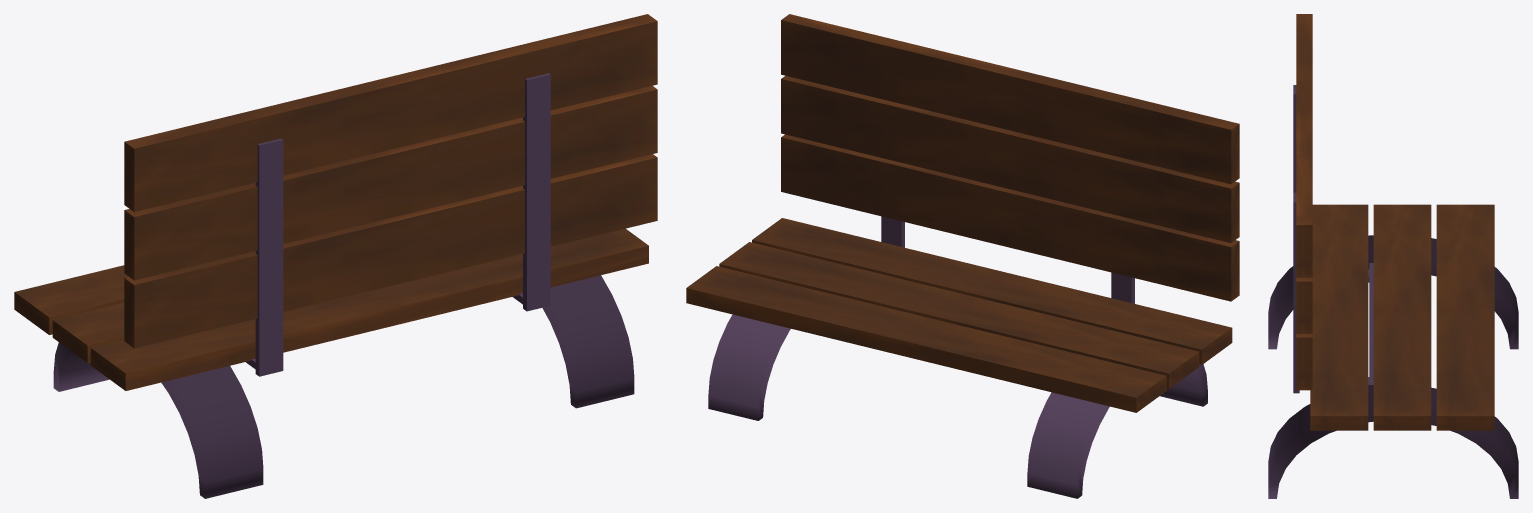
The model's file is Bench.glb.
3 renders of one model, left to right at view 1: azimuth 30°, elevation 25°; view 2: azimuth 150°, elevation 25°; view 3: azimuth 270°, elevation 25°, orthographic. The views are drawn at different scales.
Parts seen in each view (by area): view 1: Planks, Feet, Support; view 2: Planks, Feet, Support; view 3: Planks, Feet, Support.
Boxes of the visible parts, x1,y1,x2,y2 form: Planks: (14,14,657,390); Feet: (53,275,634,498); Support: (246,73,550,376); Planks: (686,14,1239,412); Feet: (708,314,1207,498); Support: (881,216,1134,303); Planks: (1296,14,1494,430); Feet: (1268,235,1518,498); Support: (1293,85,1373,393).
Bounding box in the file's own units: 4.29 × 2.75 × 2.15.
Materials: 2 (1 with a texture image).
